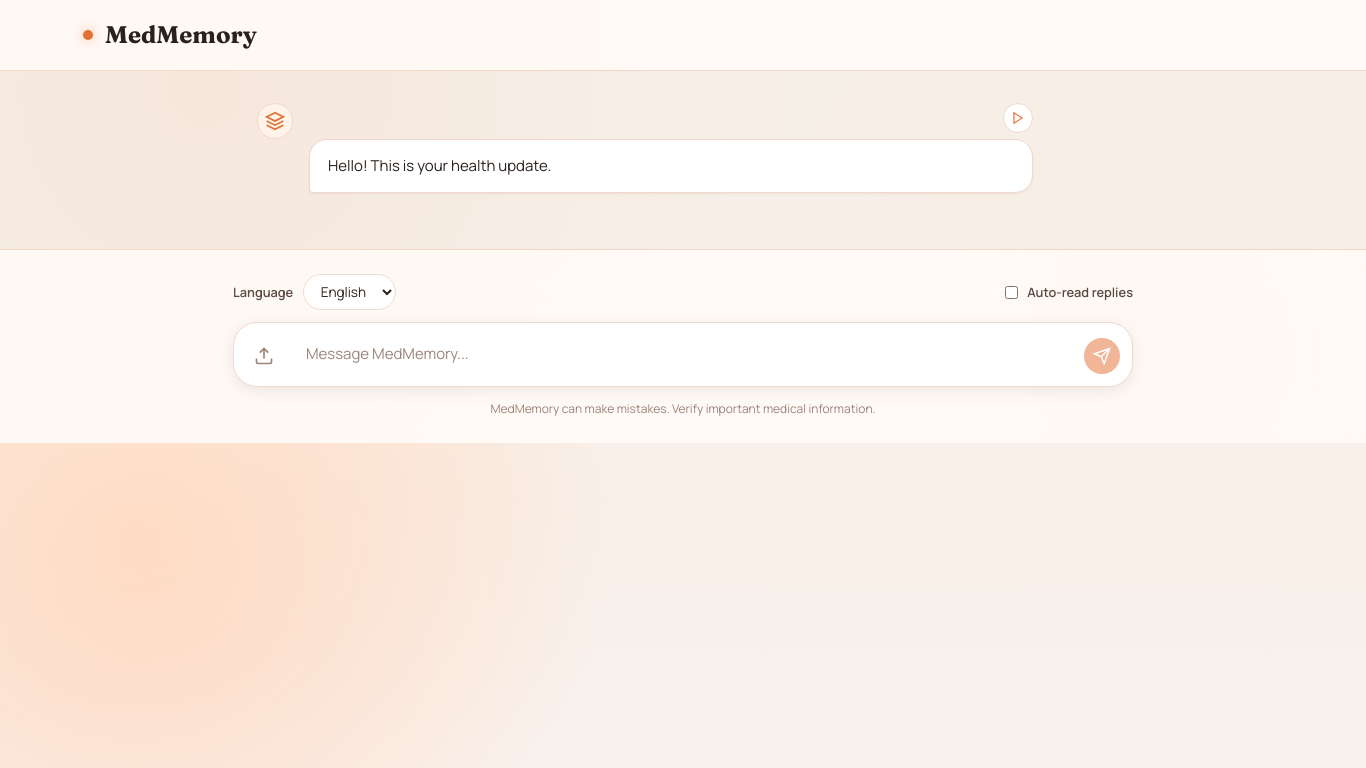
Scenario: shows language controls and plays an assistant reply aloud
Expected: the dropdown with test id "chat-language-select" shows "English", [303,274,396,310]
Click the button with test id "message-speak-button" at (1018, 118), box [1003,103,1033,133]
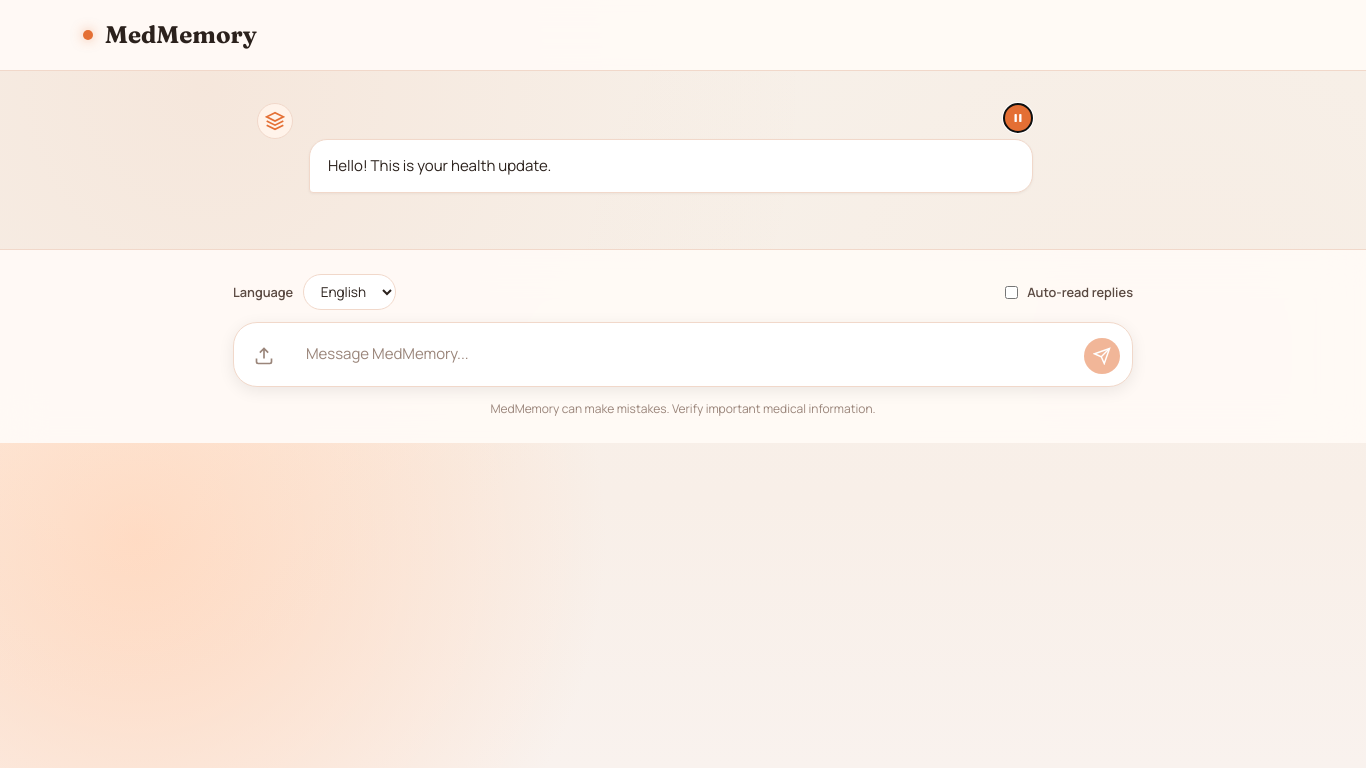
Expected: the button named "Stop audio" is shown, [1003,103,1033,133]
